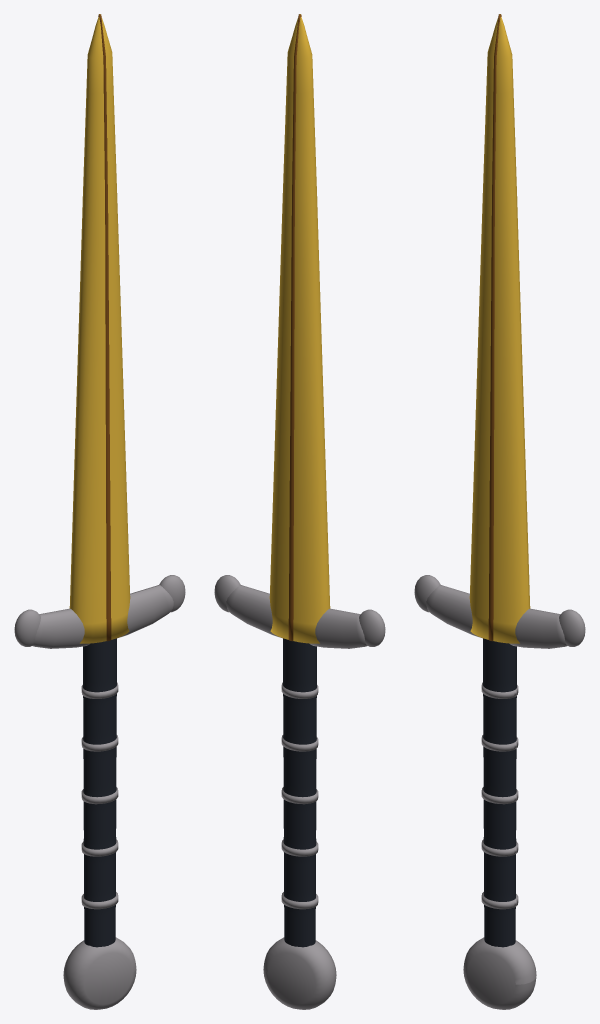
Rendered from sword.glb.
The picture shows the model from 3 angles, left to right: view 1: azimuth 30°, elevation 25°; view 2: azimuth 150°, elevation 25°; view 3: azimuth 330°, elevation 25°; orthographic projection.
Visible parts, largest first — view 1: TKA_Sword_Blade, TKA_Sword_Grip, TKA_Sword_Guard, TKA_Sword_Pommel, TKA_Sword_BladeSpine, TKA_Sword_GripBands; view 2: TKA_Sword_Blade, TKA_Sword_Grip, TKA_Sword_Guard, TKA_Sword_Pommel, TKA_Sword_BladeSpine, TKA_Sword_GripBands; view 3: TKA_Sword_Blade, TKA_Sword_Grip, TKA_Sword_Guard, TKA_Sword_Pommel, TKA_Sword_BladeSpine, TKA_Sword_GripBands.
Boxes of the visible parts, x1,y1,x2,y2 form: TKA_Sword_Blade: (69, 14, 130, 643); TKA_Sword_Grip: (83, 638, 116, 947); TKA_Sword_Guard: (14, 575, 185, 648); TKA_Sword_Pommel: (63, 937, 136, 1009); TKA_Sword_BladeSpine: (98, 14, 111, 641); TKA_Sword_GripBands: (81, 682, 118, 909); TKA_Sword_Blade: (269, 14, 330, 643); TKA_Sword_Grip: (283, 638, 316, 947); TKA_Sword_Guard: (214, 575, 385, 648); TKA_Sword_Pommel: (263, 937, 336, 1009); TKA_Sword_BladeSpine: (288, 14, 301, 641); TKA_Sword_GripBands: (281, 682, 318, 909); TKA_Sword_Blade: (469, 14, 530, 643); TKA_Sword_Grip: (483, 638, 516, 947); TKA_Sword_Guard: (414, 575, 585, 648); TKA_Sword_Pommel: (463, 937, 536, 1009); TKA_Sword_BladeSpine: (488, 14, 501, 641); TKA_Sword_GripBands: (481, 682, 518, 909).
Bounding box in the file's own units: 0.1542 × 0.8636 × 0.0293.
